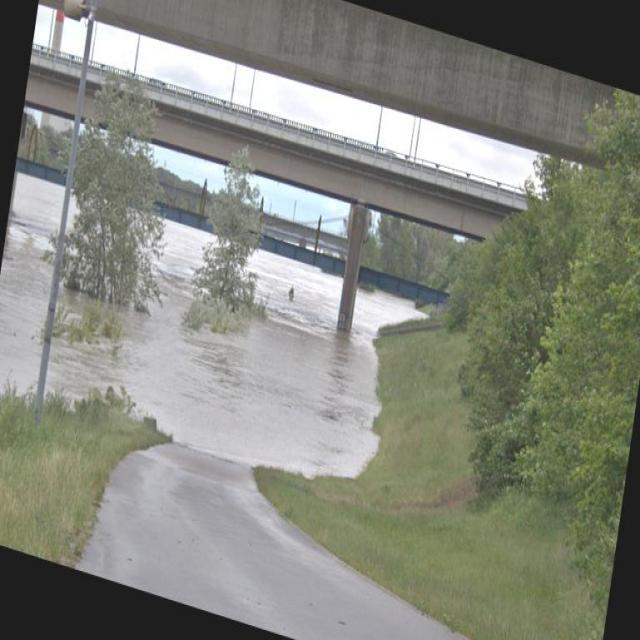flood: (0, 155, 395, 495)
